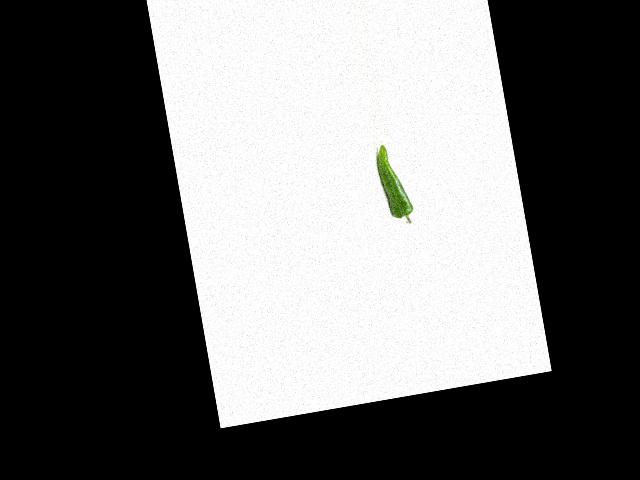bell_pepper: (372, 141, 417, 230)
